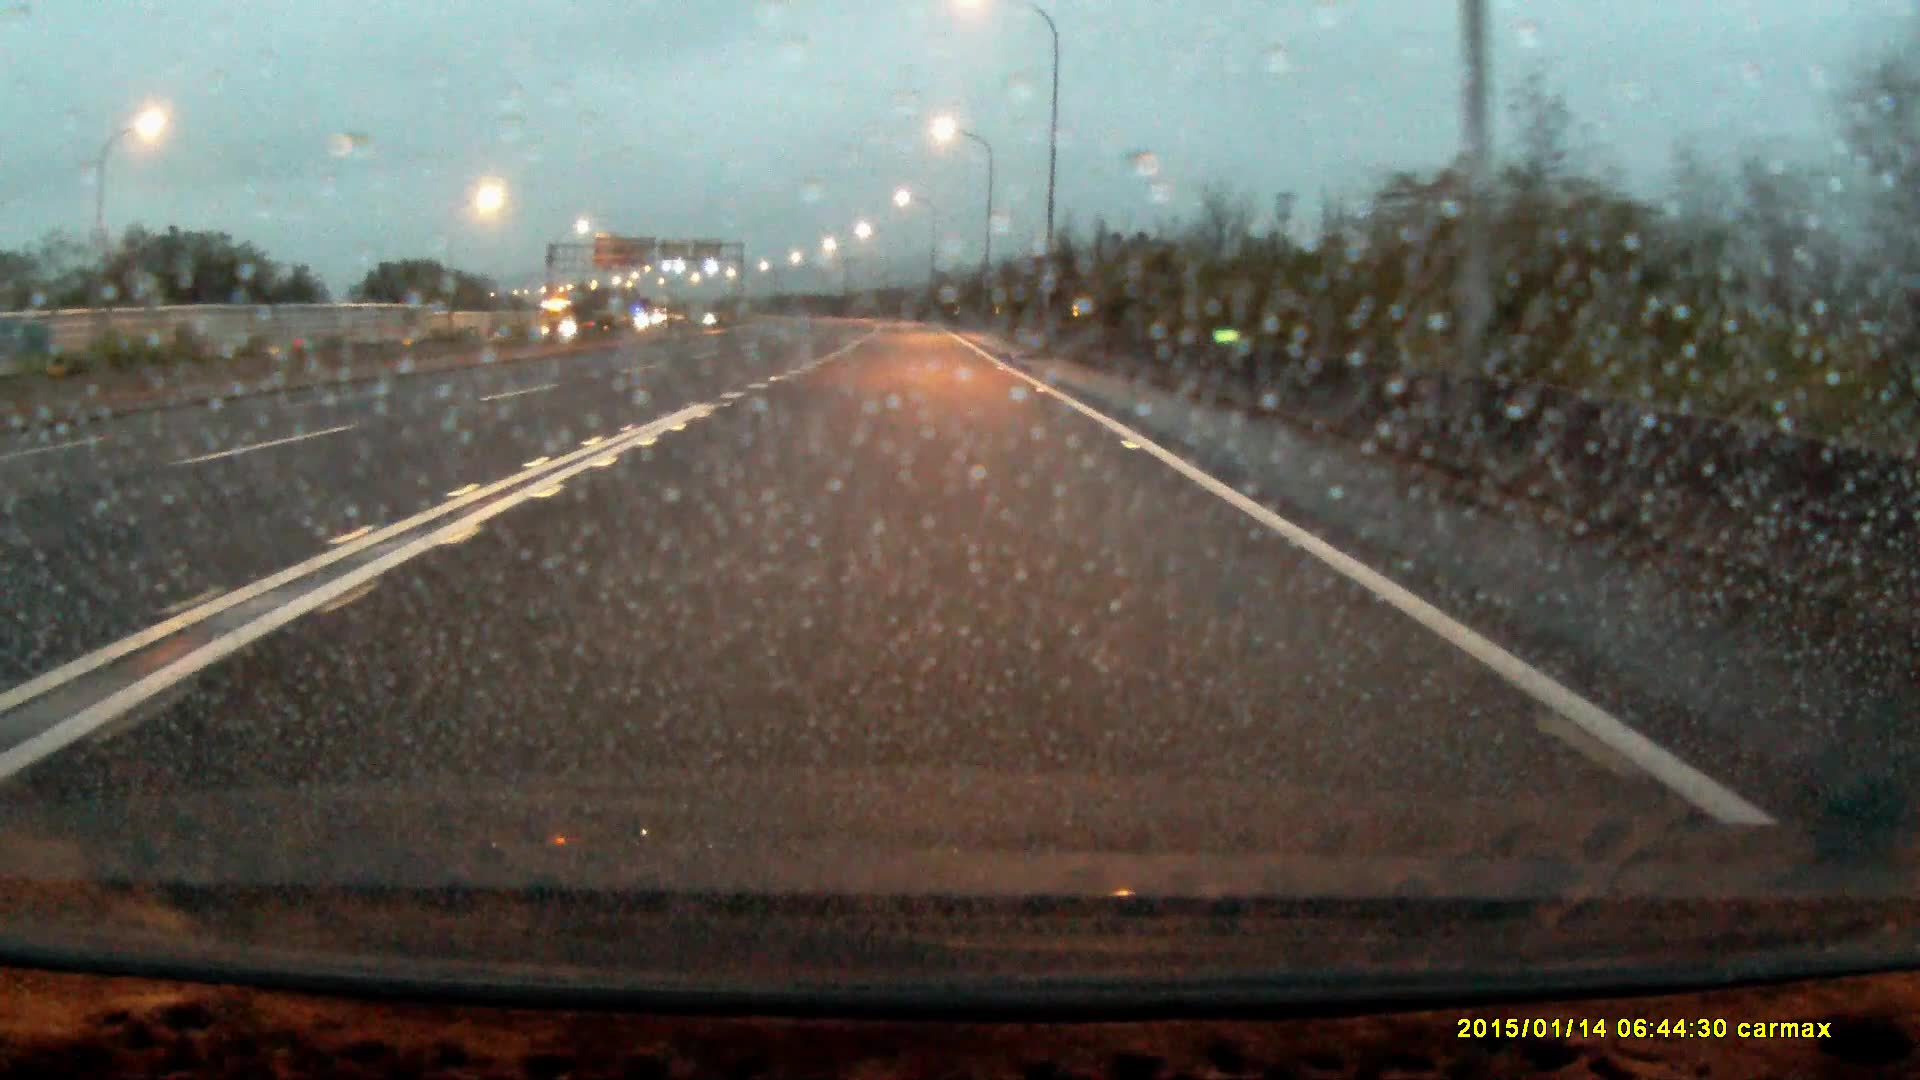vehicle: (538, 295, 597, 345)
